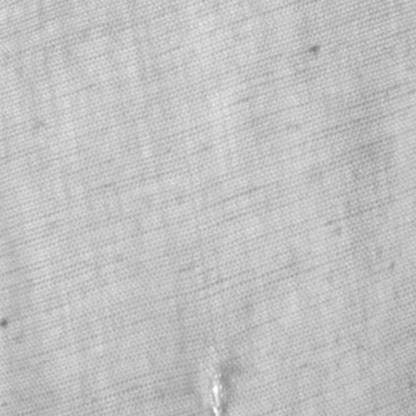hole: (206, 370, 232, 415)
